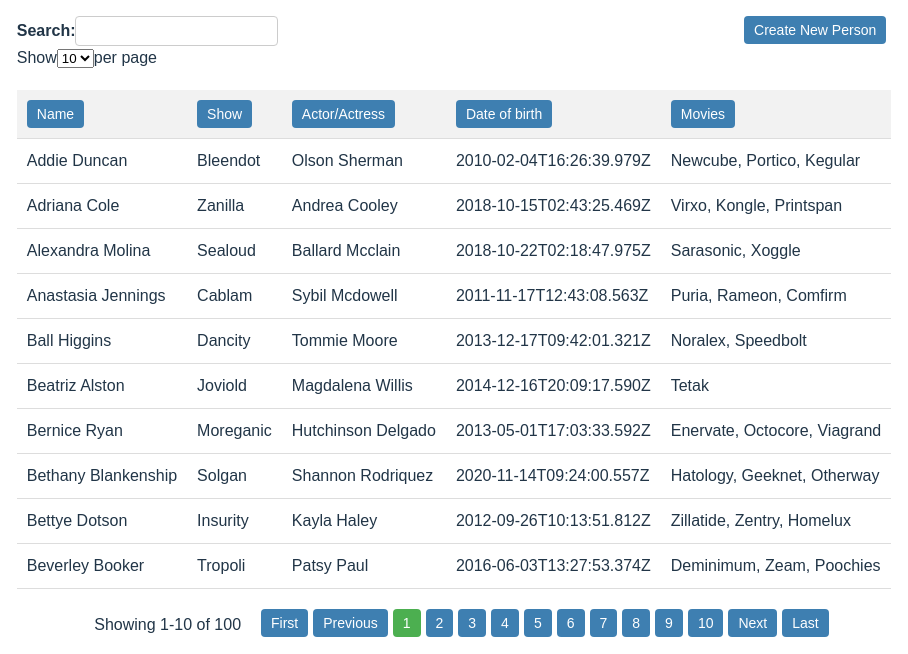
Test case: People › Pagination › should go the first page, and not the previous page
Expected: the text "Showing 1-10 of 100" is shown, [94,613,241,637]
Click the button "Last" at {"x": 806, "y": 623}, box [782,609,829,637]
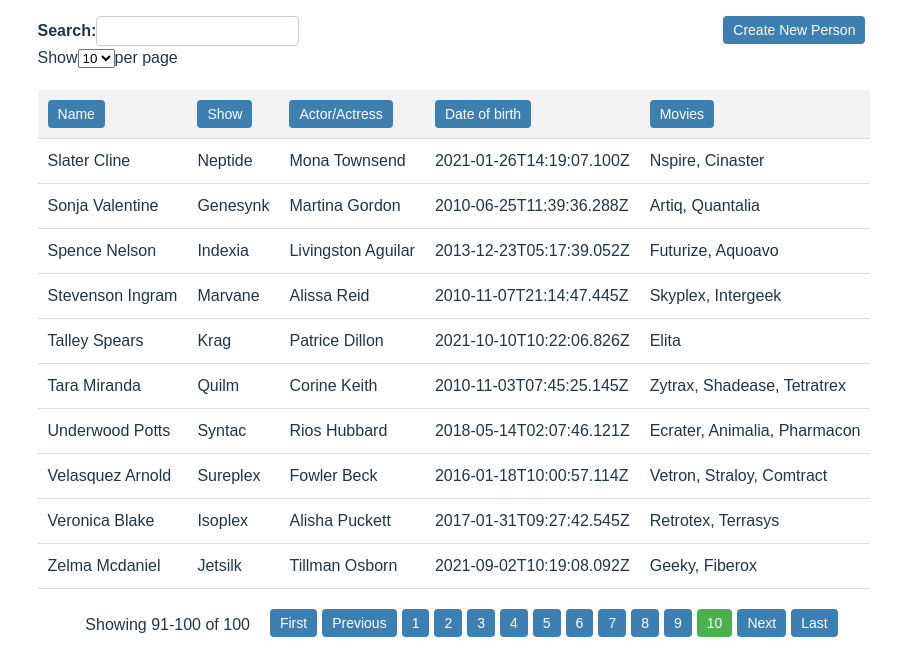
Expected: the text "Showing 91-100 of 100" is shown, [85,613,250,637]
Click the button "First" at {"x": 294, "y": 623}, box [270,609,317,637]
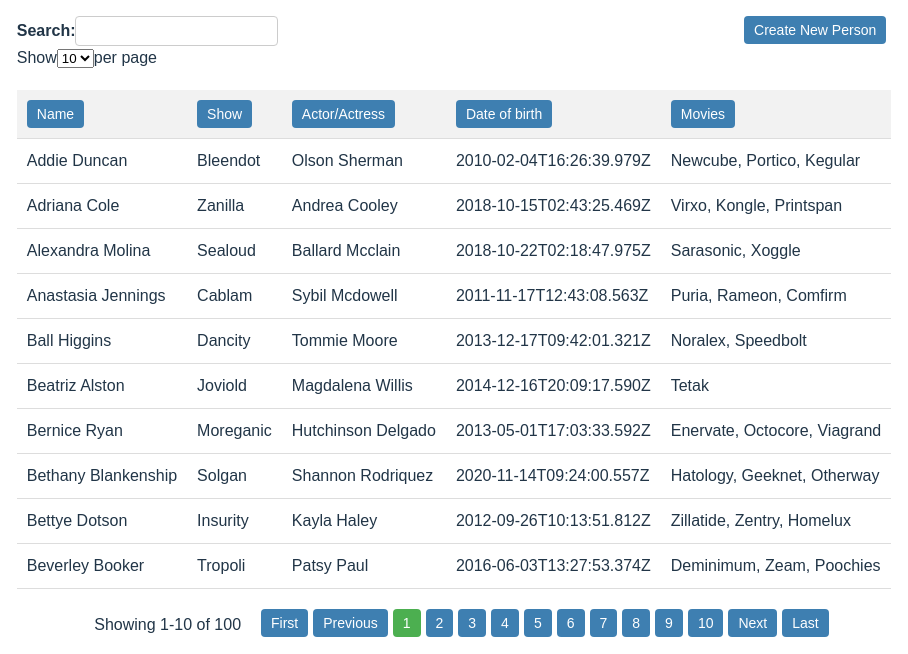
Expected: the button "Previous" is disabled, [313,609,388,637]
Expected: the button "First" is disabled, [261,609,308,637]
